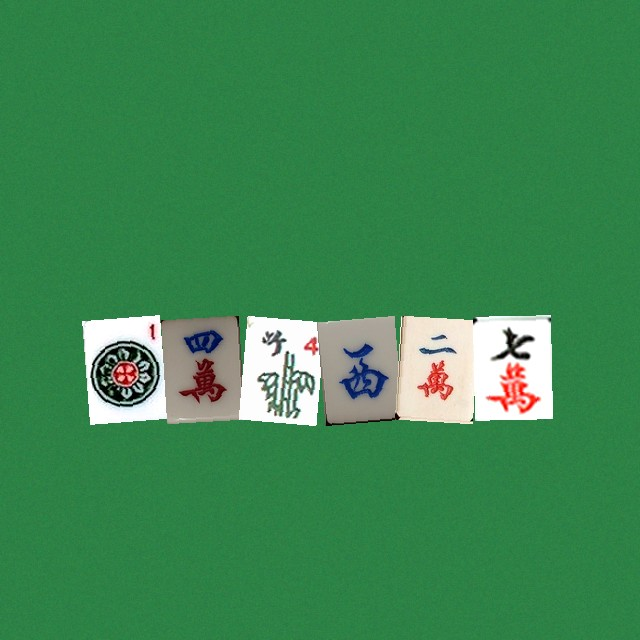tile: (82, 315, 160, 419), (160, 315, 238, 419), (238, 315, 316, 419), (316, 315, 394, 419), (394, 315, 472, 419), (472, 315, 550, 419)
